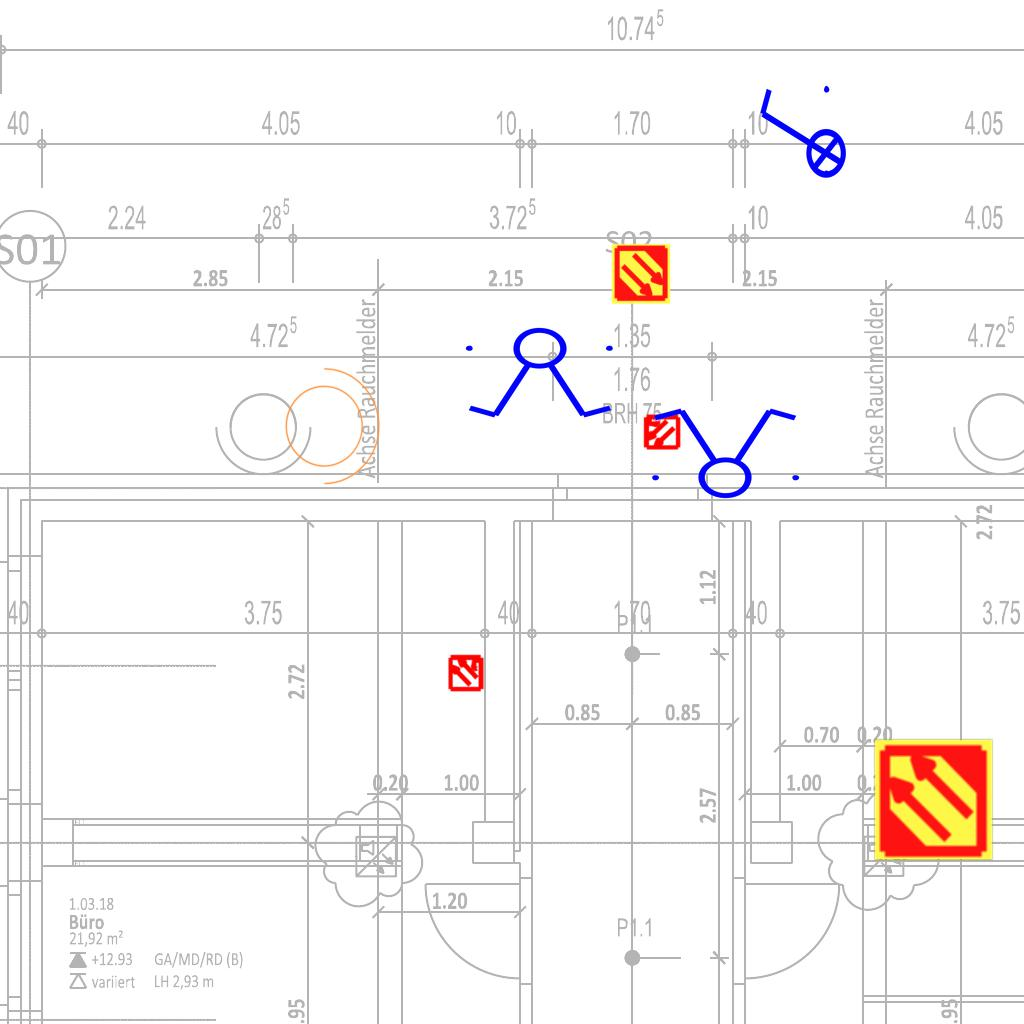ASR_Ansaugrauchmelder: (871, 737, 996, 862), (610, 243, 672, 305)
Ausschalter_beleuchtet: (752, 80, 848, 192)
OT_Multisensormelder_(Kombination_RMO_WMD): (633, 404, 689, 460), (438, 644, 494, 700)
Scheinwerfer_fuer_Alarmbeleuchtung: (273, 357, 385, 489)
Serienschalter: (457, 326, 625, 422), (640, 404, 808, 500)
